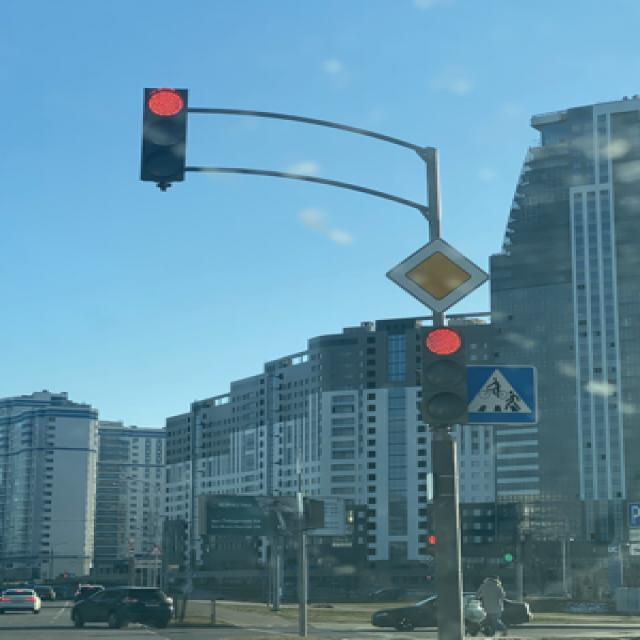crosswalk: (463, 367, 531, 422)
trafficlight: (416, 324, 465, 426), (138, 86, 184, 181)
